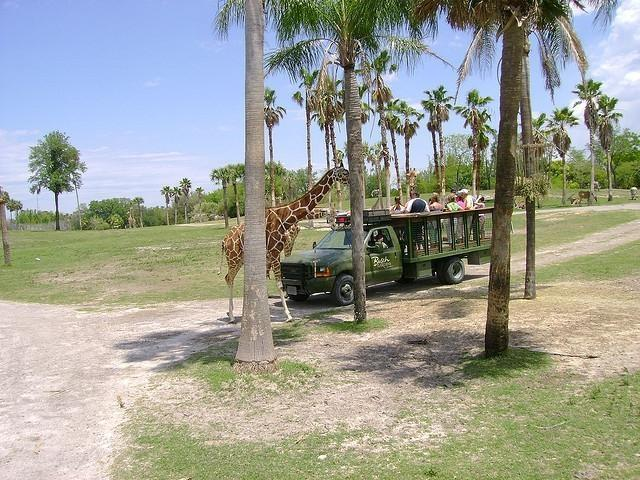truck: (282, 210, 496, 308)
